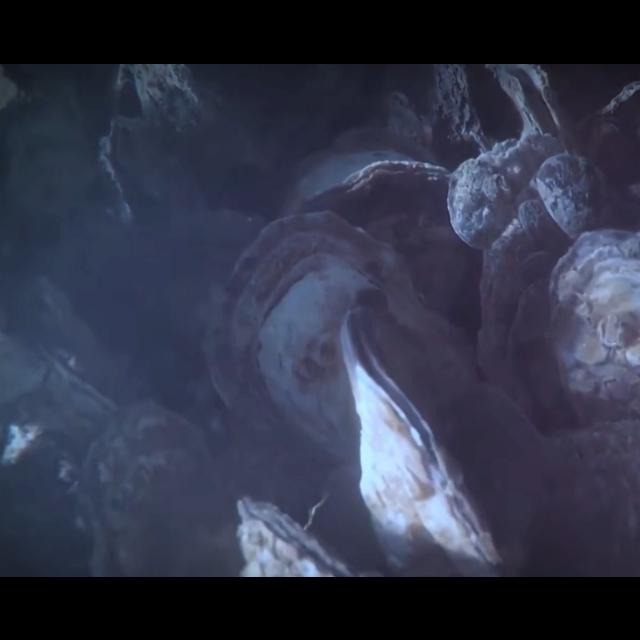Oyster-Closed: (202, 210, 494, 498), (298, 164, 490, 338), (70, 406, 238, 576), (478, 220, 576, 416), (549, 230, 640, 435), (274, 128, 444, 224), (128, 62, 245, 148), (422, 63, 488, 173), (446, 158, 516, 260), (538, 154, 616, 242), (518, 200, 570, 256)
Oyster-Open: (338, 309, 504, 575), (486, 62, 584, 162), (98, 115, 180, 232), (236, 494, 352, 576)
